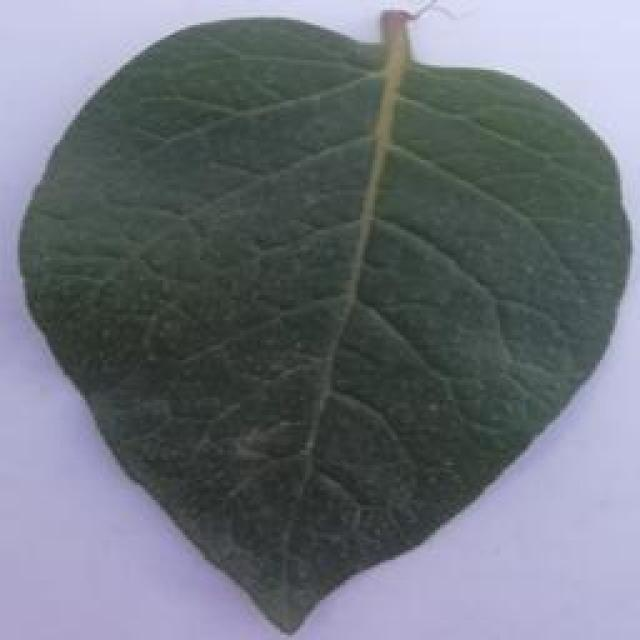Potato_Healthy: (17, 13, 624, 637)
